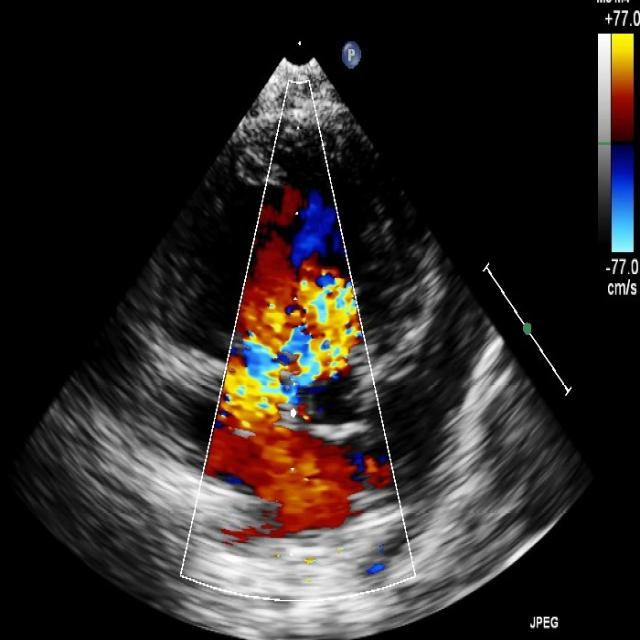ASDType2: (206, 427, 363, 517)
VSDType2: (227, 272, 361, 402)
